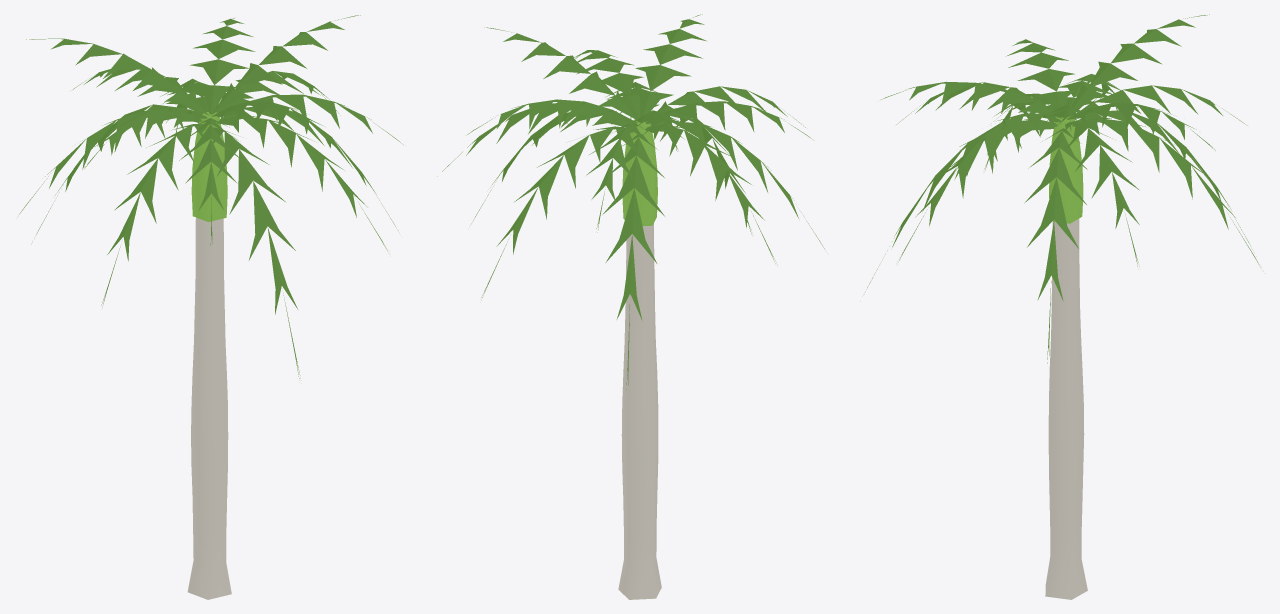
File: Blender_RoyalPalm_2_Far.glb
3 renders of one model, left to right at view 1: azimuth 30°, elevation 25°; view 2: azimuth 150°, elevation 25°; view 3: azimuth 270°, elevation 25°, orthographic.
Parts seen in each view (by area): view 1: Blender_RoyalPalm_2_Far; view 2: Blender_RoyalPalm_2_Far; view 3: Blender_RoyalPalm_2_Far.
Boxes of the visible parts, box(x1,y1,x2,y2) form: Blender_RoyalPalm_2_Far: box(19, 15, 403, 599); Blender_RoyalPalm_2_Far: box(437, 14, 824, 599); Blender_RoyalPalm_2_Far: box(865, 14, 1260, 599).
Bounding box in the file's own units: 11.29 × 16.46 × 11.33.
